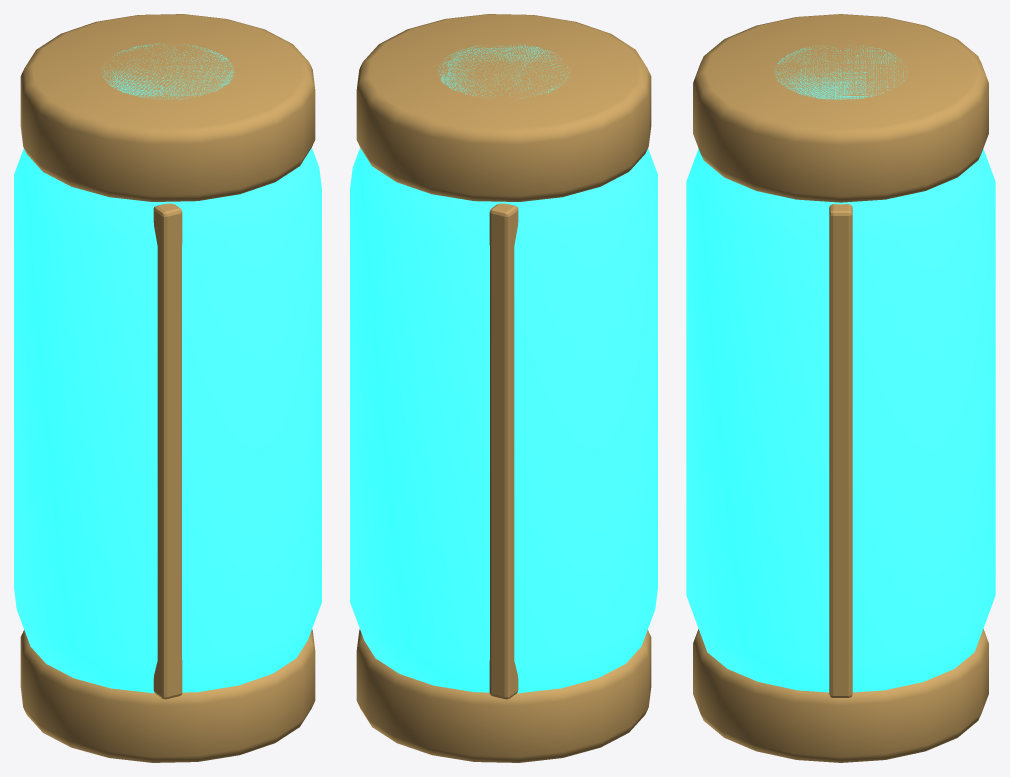
The model's file is energy.glb.
The picture shows the model from 3 angles, left to right: view 1: azimuth 30°, elevation 25°; view 2: azimuth 150°, elevation 25°; view 3: azimuth 270°, elevation 25°; orthographic projection.
Parts seen in each view (by area): view 1: energy | cyan energy, energy | champagne brass; view 2: energy | cyan energy, energy | champagne brass; view 3: energy | cyan energy, energy | champagne brass.
Boxes of the visible parts, x1=… form: energy | cyan energy: x1=14, y1=43, x2=321, y2=693; energy | champagne brass: x1=20, y1=14, x2=315, y2=762; energy | cyan energy: x1=350, y1=45, x2=657, y2=693; energy | champagne brass: x1=356, y1=14, x2=651, y2=762; energy | cyan energy: x1=686, y1=45, x2=995, y2=692; energy | champagne brass: x1=693, y1=14, x2=988, y2=762.
Size of the model in its own units: 0.4675 by 1.04 by 0.46.
